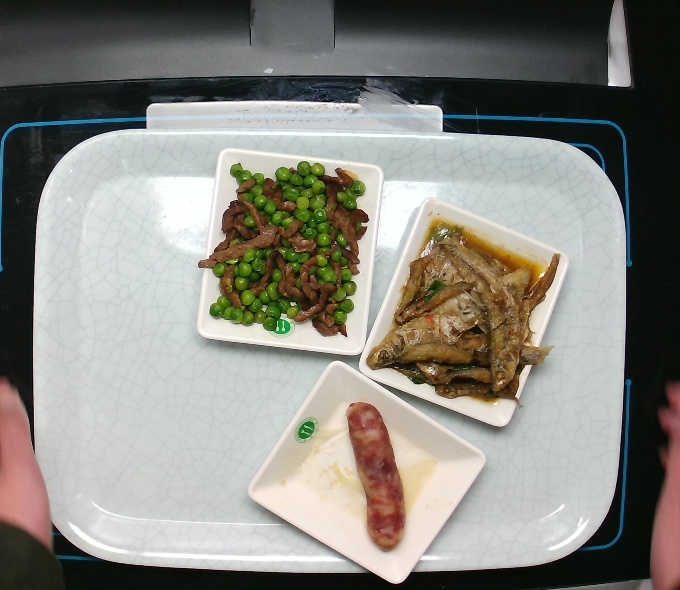wcq-CanDouNiuRou: (206, 158, 367, 338)
wcq-XiangChang: (344, 400, 407, 553)
wcq-XiaoJiYu: (364, 222, 554, 401)
